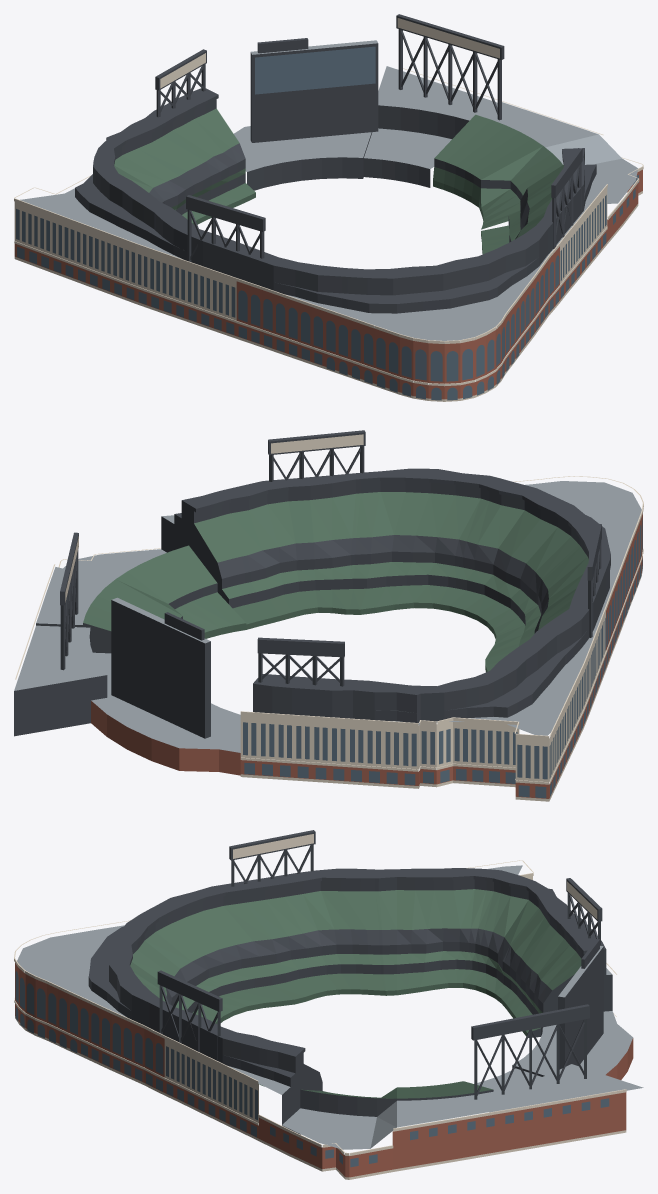
File: detail.glb
3 renders of one model, top to bottom at view 1: azimuth 30°, elevation 25°; view 2: azimuth 150°, elevation 25°; view 3: azimuth 270°, elevation 25°, orthographic. The views are drawn at different scales.
Parts seen in each view (by area): view 1: citi-field; view 2: citi-field; view 3: citi-field.
Boxes of the visible parts, bbox=[...] form: citi-field: bbox=[14, 14, 643, 401]; citi-field: bbox=[14, 430, 643, 801]; citi-field: bbox=[14, 830, 643, 1179].
Bounding box in the file's own units: 269 × 59 × 276.
